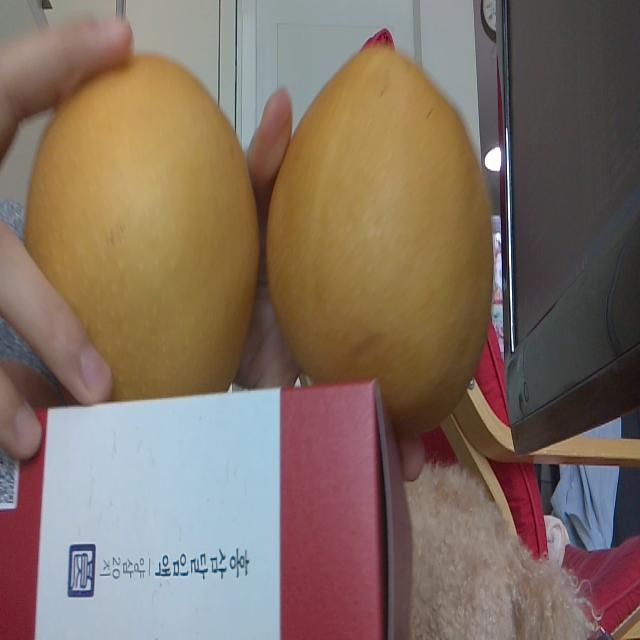pear: (268, 45, 494, 438), (22, 50, 260, 405)
